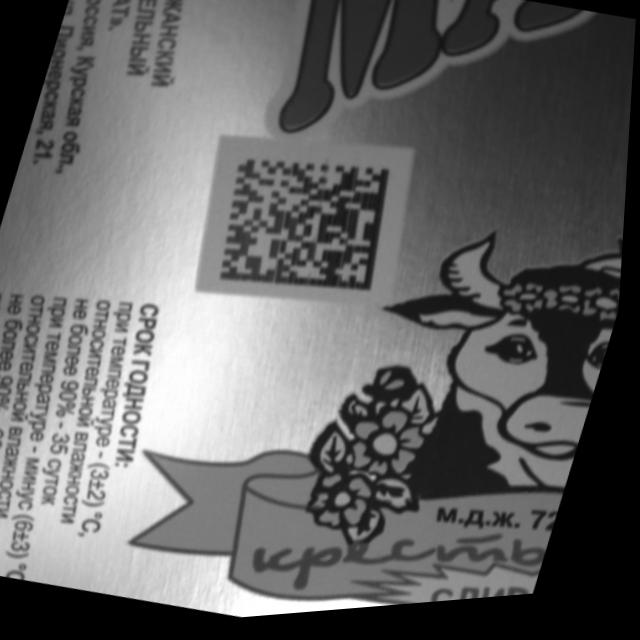datamatrix: (206, 138, 411, 321)
